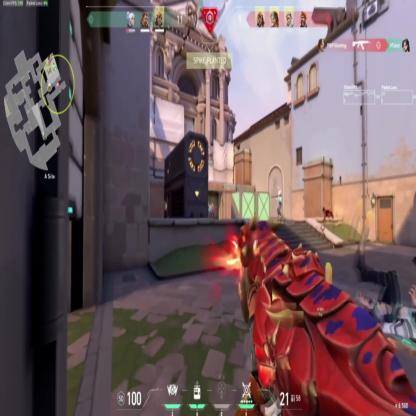enemy: (210, 203, 216, 219)
enemy_head: (212, 203, 214, 206)
